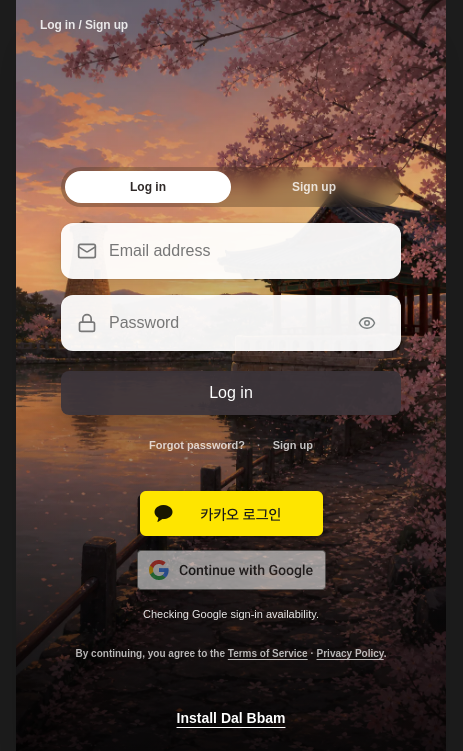
Test: signup consent form › renders unchecked required consent controls and policy links in en
Click the 1st button "Sign up" at (314, 187), box left=231, top=171, right=397, bottom=203
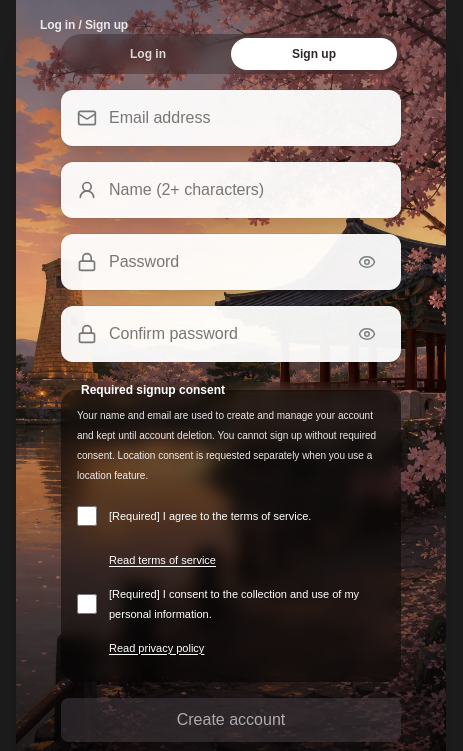
Check: the checkbox labelled "[Required] I agree to the terms of service." is not checked, box left=77, top=506, right=97, bottom=526
Check: the checkbox labelled "[Required] I consent to the collection and use of my personal information." is not checked, box left=77, top=594, right=97, bottom=614
